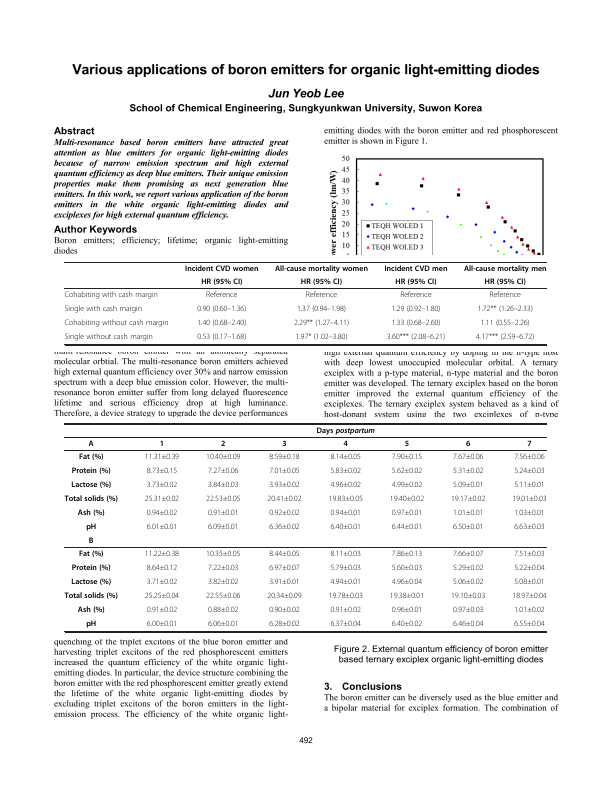borderless: (64, 422, 546, 631), (63, 260, 546, 344)
cell: (63, 318, 169, 328), (63, 290, 159, 300), (64, 332, 154, 342), (274, 264, 369, 273), (63, 304, 143, 314), (463, 264, 547, 273), (184, 264, 259, 273), (386, 332, 446, 342), (475, 332, 535, 342), (383, 264, 448, 273), (477, 304, 534, 314), (293, 318, 350, 328), (64, 494, 119, 504), (64, 591, 119, 601), (294, 332, 348, 342), (316, 426, 376, 435), (196, 304, 247, 314), (296, 304, 347, 314), (390, 304, 441, 314), (196, 318, 247, 328), (390, 318, 441, 328), (480, 318, 531, 328), (196, 332, 247, 342), (200, 277, 243, 287), (300, 277, 343, 287), (394, 277, 437, 287), (484, 277, 527, 287), (70, 480, 112, 490), (70, 577, 112, 587), (71, 466, 111, 476), (71, 563, 111, 573), (399, 290, 433, 300), (488, 290, 522, 300), (205, 290, 238, 300), (305, 290, 338, 300), (77, 508, 105, 518), (77, 605, 105, 615), (78, 452, 104, 462), (78, 549, 104, 559), (144, 453, 180, 460), (205, 453, 241, 460), (144, 495, 180, 502), (205, 495, 241, 502), (266, 495, 302, 502), (328, 495, 364, 502), (389, 495, 425, 502), (450, 495, 486, 502), (511, 495, 547, 502), (144, 550, 180, 557), (205, 550, 241, 557), (144, 592, 180, 599), (205, 592, 241, 599), (266, 592, 302, 599), (328, 592, 364, 599), (389, 592, 425, 599), (450, 592, 486, 599), (511, 592, 547, 599), (268, 453, 301, 460), (329, 453, 362, 460), (513, 453, 546, 460), (268, 467, 301, 474), (329, 467, 362, 474), (513, 467, 546, 474), (268, 481, 301, 488), (329, 481, 362, 488), (513, 481, 546, 488), (268, 509, 301, 516), (329, 509, 362, 516), (513, 509, 546, 516), (268, 523, 301, 530), (329, 523, 362, 530), (513, 523, 546, 530), (268, 550, 301, 557), (329, 550, 362, 557), (513, 550, 546, 557), (268, 564, 301, 571), (329, 564, 362, 571), (513, 564, 546, 571), (268, 578, 301, 585), (329, 578, 362, 585), (513, 578, 546, 585), (268, 606, 301, 613), (329, 606, 362, 613), (513, 606, 546, 613), (268, 620, 301, 627), (329, 620, 362, 627), (513, 620, 546, 627), (391, 453, 423, 460), (452, 453, 484, 460), (146, 467, 178, 474), (207, 467, 239, 474), (391, 467, 423, 474), (452, 467, 484, 474), (146, 481, 178, 488), (207, 481, 239, 488), (391, 481, 423, 488), (452, 481, 484, 488), (146, 509, 178, 516), (207, 509, 239, 516), (391, 509, 423, 516), (452, 509, 484, 516), (146, 523, 178, 530), (207, 523, 239, 530), (391, 523, 423, 530), (452, 523, 484, 530), (391, 550, 423, 557), (452, 550, 484, 557), (146, 564, 178, 571), (207, 564, 239, 571), (391, 564, 423, 571), (452, 564, 484, 571), (146, 578, 178, 585), (207, 578, 239, 585), (391, 578, 423, 585), (452, 578, 484, 585), (146, 606, 178, 613), (207, 606, 239, 613), (391, 606, 423, 613), (452, 606, 484, 613), (146, 620, 178, 627), (207, 620, 239, 627), (391, 620, 423, 627), (452, 620, 484, 627), (85, 522, 97, 532), (85, 619, 97, 629), (88, 439, 95, 449), (342, 439, 349, 449), (159, 439, 165, 449), (220, 439, 226, 449), (281, 439, 287, 449), (404, 439, 410, 449), (465, 439, 471, 449), (526, 439, 532, 449), (88, 536, 94, 546)
